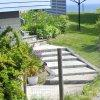stairs: (35, 48, 100, 84), (9, 30, 51, 46)
